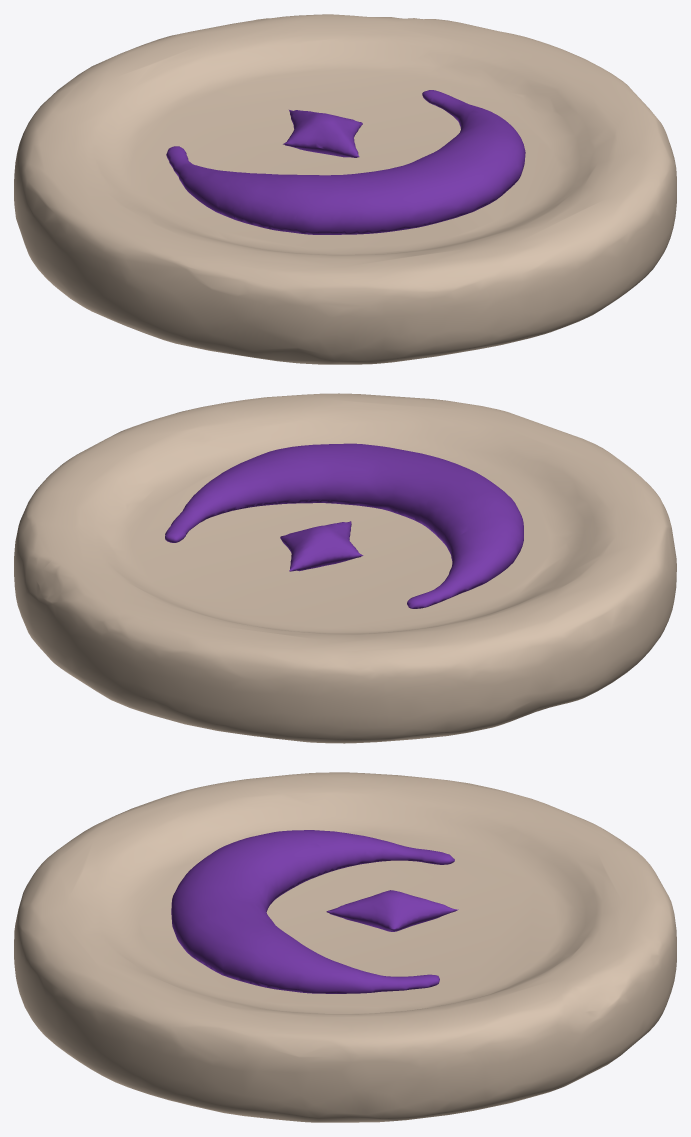
Rendered from token-mage-red.glb.
3 renders of one model, top to bottom at view 1: azimuth 30°, elevation 25°; view 2: azimuth 150°, elevation 25°; view 3: azimuth 270°, elevation 25°, orthographic.
Visible parts, largest first — view 1: token_mage_red; view 2: token_mage_red; view 3: token_mage_red.
Boxes of the visible parts, box(x1,y1,x2,y2) form: token_mage_red: box(14, 14, 676, 364); token_mage_red: box(14, 393, 676, 743); token_mage_red: box(14, 772, 676, 1122).
Bounding box in the file's own units: 0.414 × 0.0741 × 0.4142.
